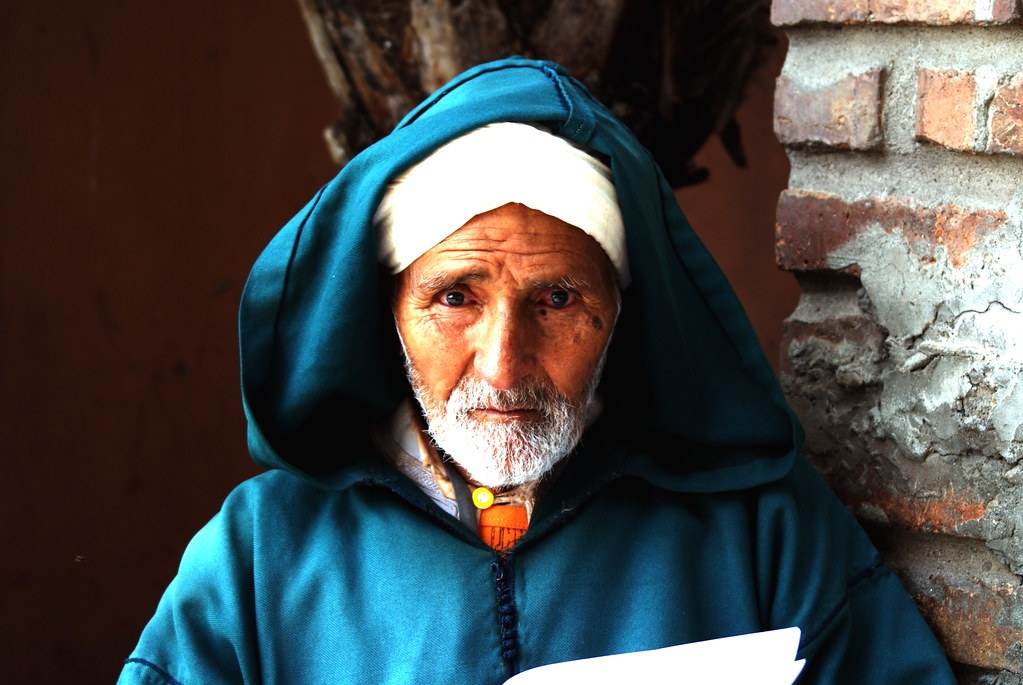without_mask: (382, 198, 619, 479)
